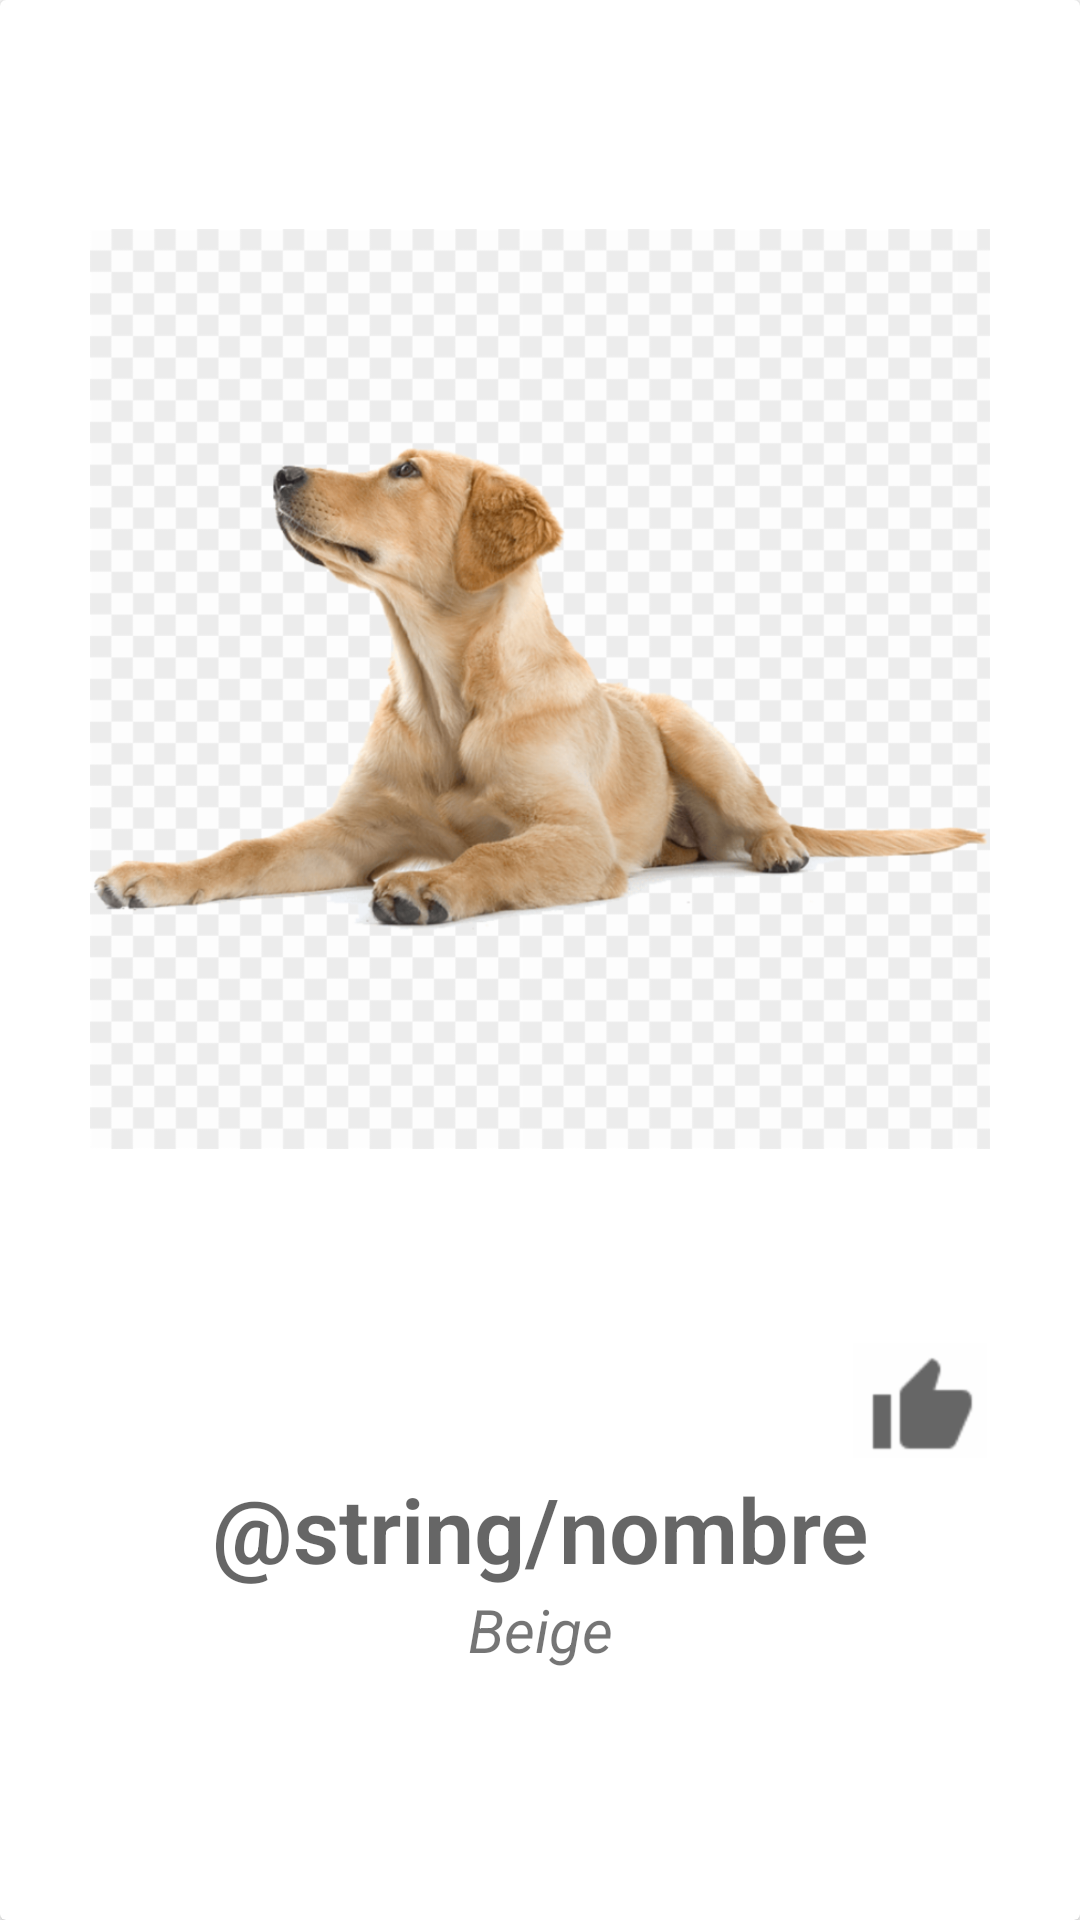

Icon bounding boxes for this 1080×1920 phone screenshot, format (x1, y1, x2, y2):
likebutton: (872, 1358, 973, 1449)
